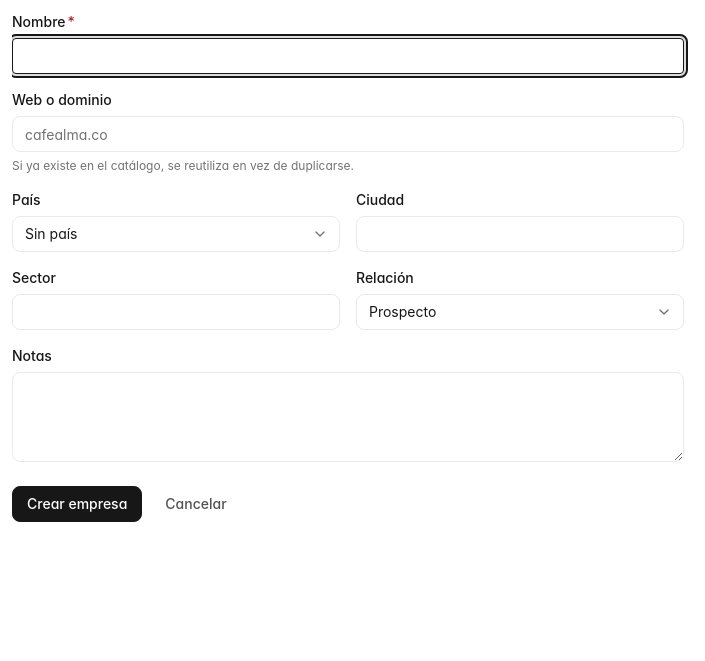
«Nueva empresa» con un nombre que ya está en el CRM (pulido r7) › cambiar el nombre después del aviso lo esconde: «Crear igual» no vale para otro nombre (pulido r8)
Type "Zumos Ñandú" into the field labelled "Nombre*" at x=348, y=56, box [12,38,684,74]
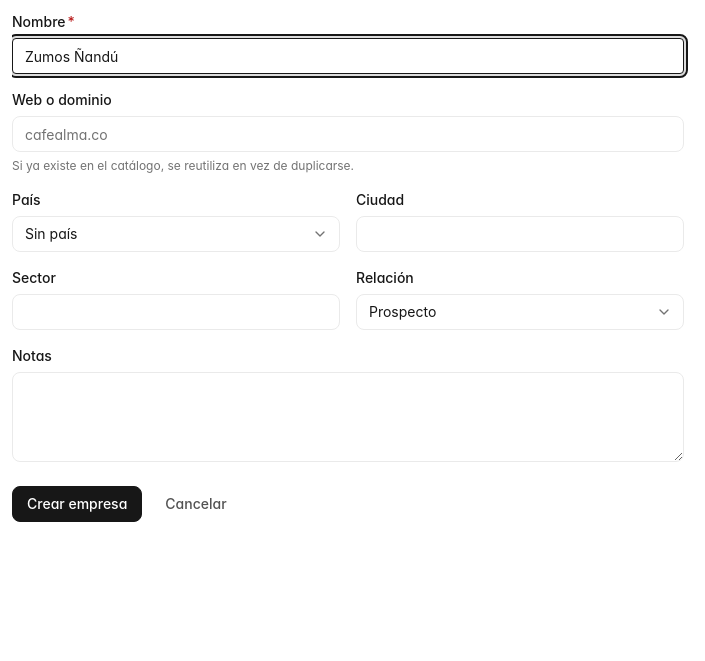
Click the button "Crear empresa" at x=77, y=504, box [12,486,142,522]
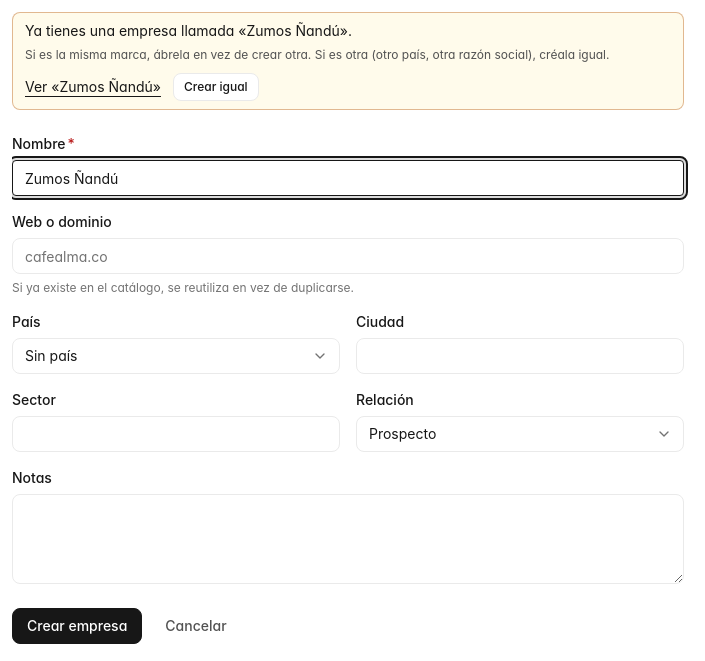
Check: the button "Crear igual" is shown, box [173,73,259,101]
Replace the text in the field labelled "Nombre*" with "Bebidas Río" at x=348, y=178, box [12,160,684,196]
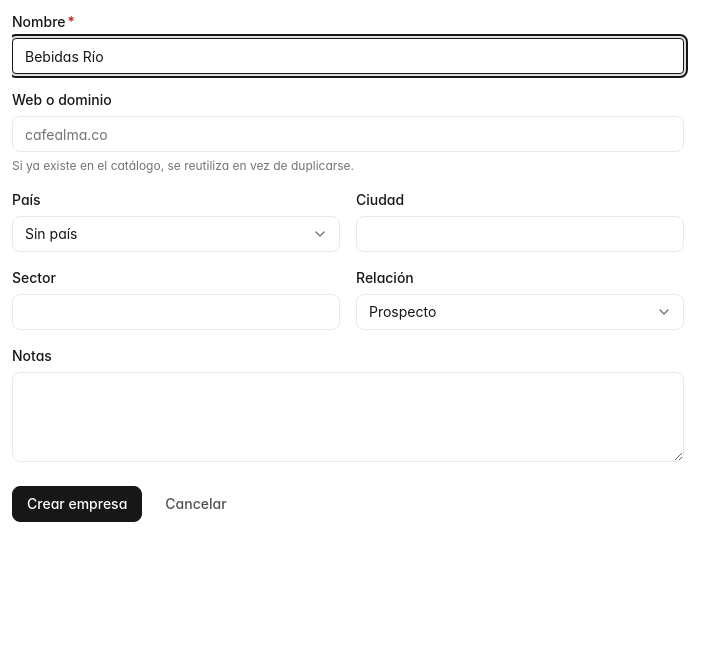
Check: the text "Ya tienes una empresa llamada «Zumos Ñandú»." is gone
Check: the button "Crear igual" is gone
Click the button "Crear empresa" at x=77, y=504, box [12,486,142,522]
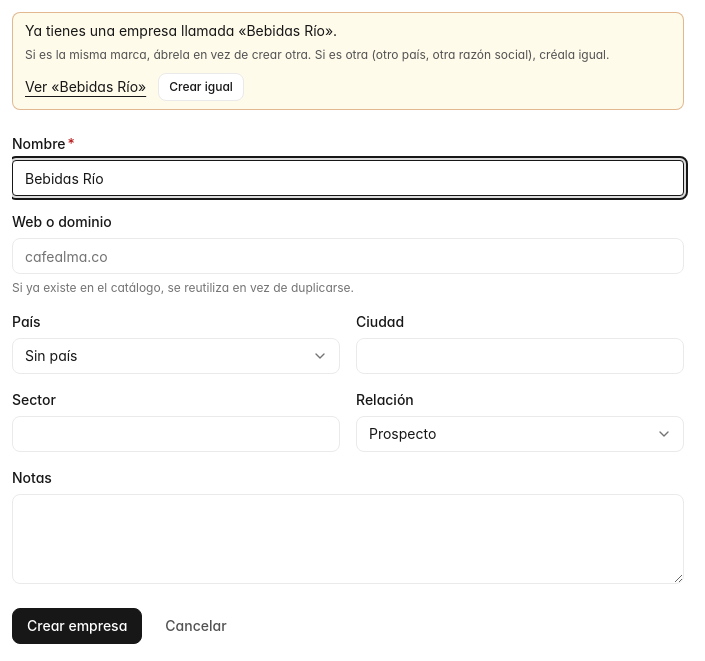
Check: the text "Ya tienes una empresa llamada «Bebidas Río»." is shown, box [25,22,337,39]
